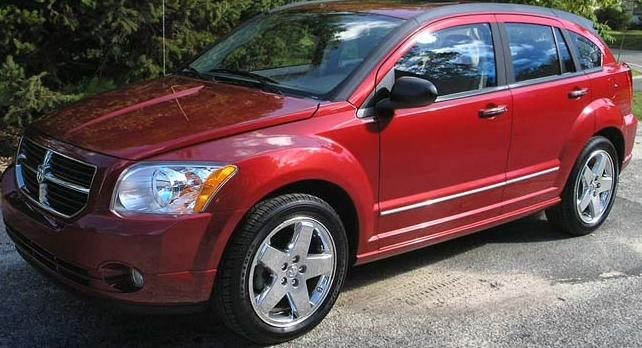front_view: (9, 127, 273, 295)
headlight: (129, 156, 252, 231)
side_glass: (365, 20, 591, 102)
